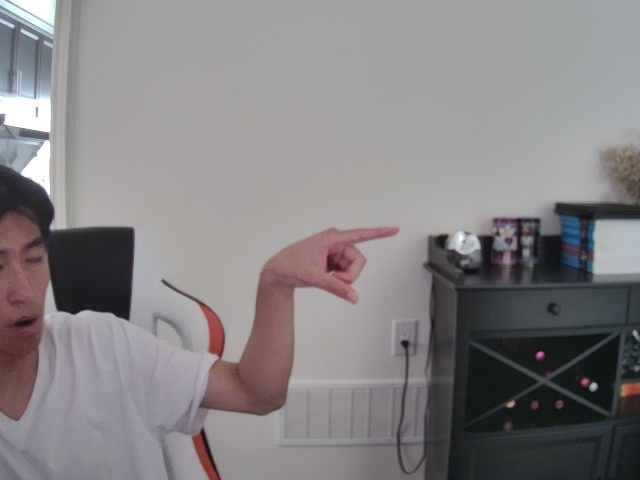P: (272, 215, 411, 312)
